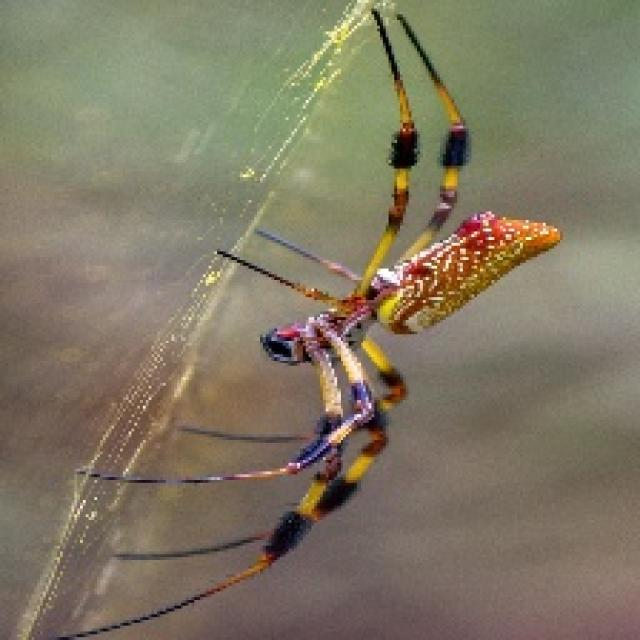Non venomous spider: (47, 9, 640, 602)
